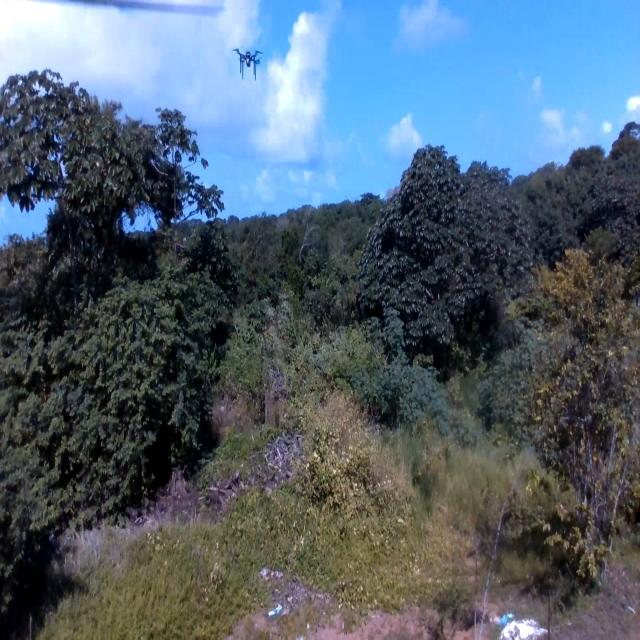-uav-: (227, 36, 267, 86)
